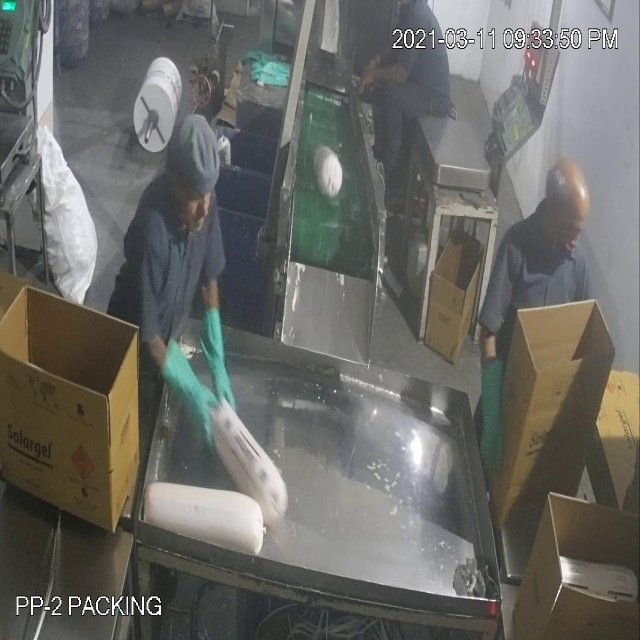Guantes: (157, 324, 226, 460), (476, 340, 514, 500), (197, 295, 237, 420)
Sin_guantes: (359, 58, 415, 108)
